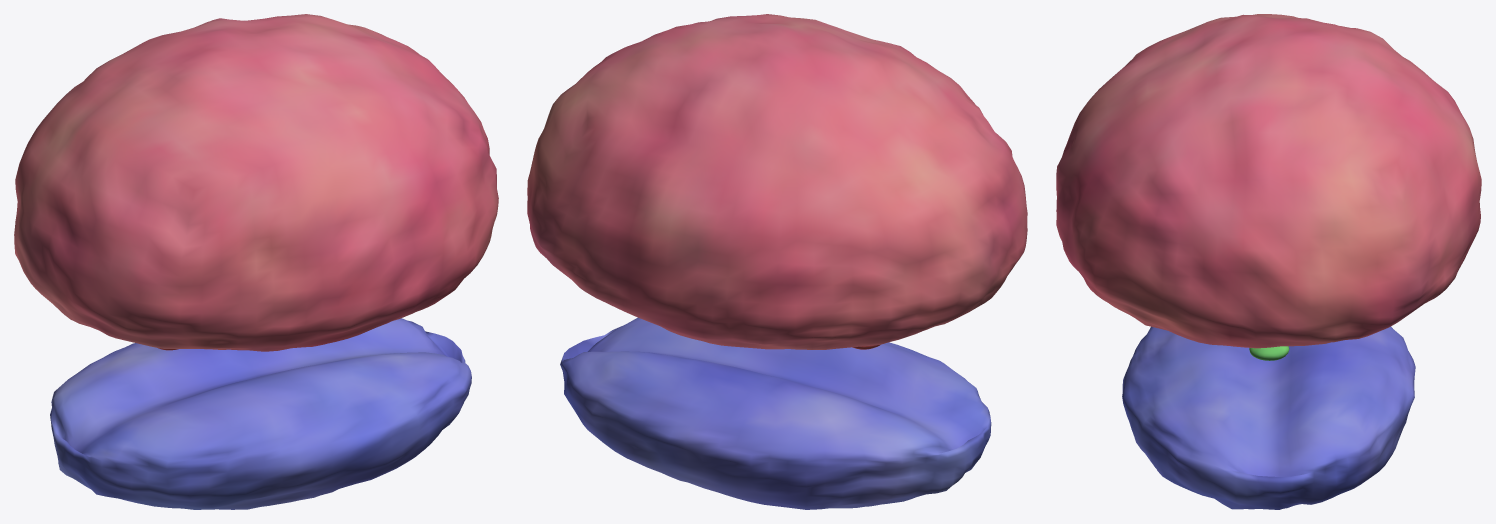
File: ribosome-subunits.glb
3 views of the same model, side by side, from view 1: azimuth 30°, elevation 25°; view 2: azimuth 150°, elevation 25°; view 3: azimuth 270°, elevation 25° (orthographic). The views are drawn at different scales.
Visible parts, largest first — view 1: ribosome-subunits-large, ribosome-subunits-small; view 2: ribosome-subunits-large, ribosome-subunits-small; view 3: ribosome-subunits-large, ribosome-subunits-small.
Part boxes in pixels (x1=…): ribosome-subunits-large: x1=14, y1=14, x2=498, y2=351; ribosome-subunits-small: x1=50, y1=318, x2=471, y2=509; ribosome-subunits-large: x1=527, y1=14, x2=1027, y2=349; ribosome-subunits-small: x1=560, y1=317, x2=991, y2=509; ribosome-subunits-large: x1=1056, y1=14, x2=1481, y2=348; ribosome-subunits-small: x1=1122, y1=326, x2=1415, y2=509.
Size of what is drawn, in the model's own units: 1.72 by 1.64 by 1.49.
